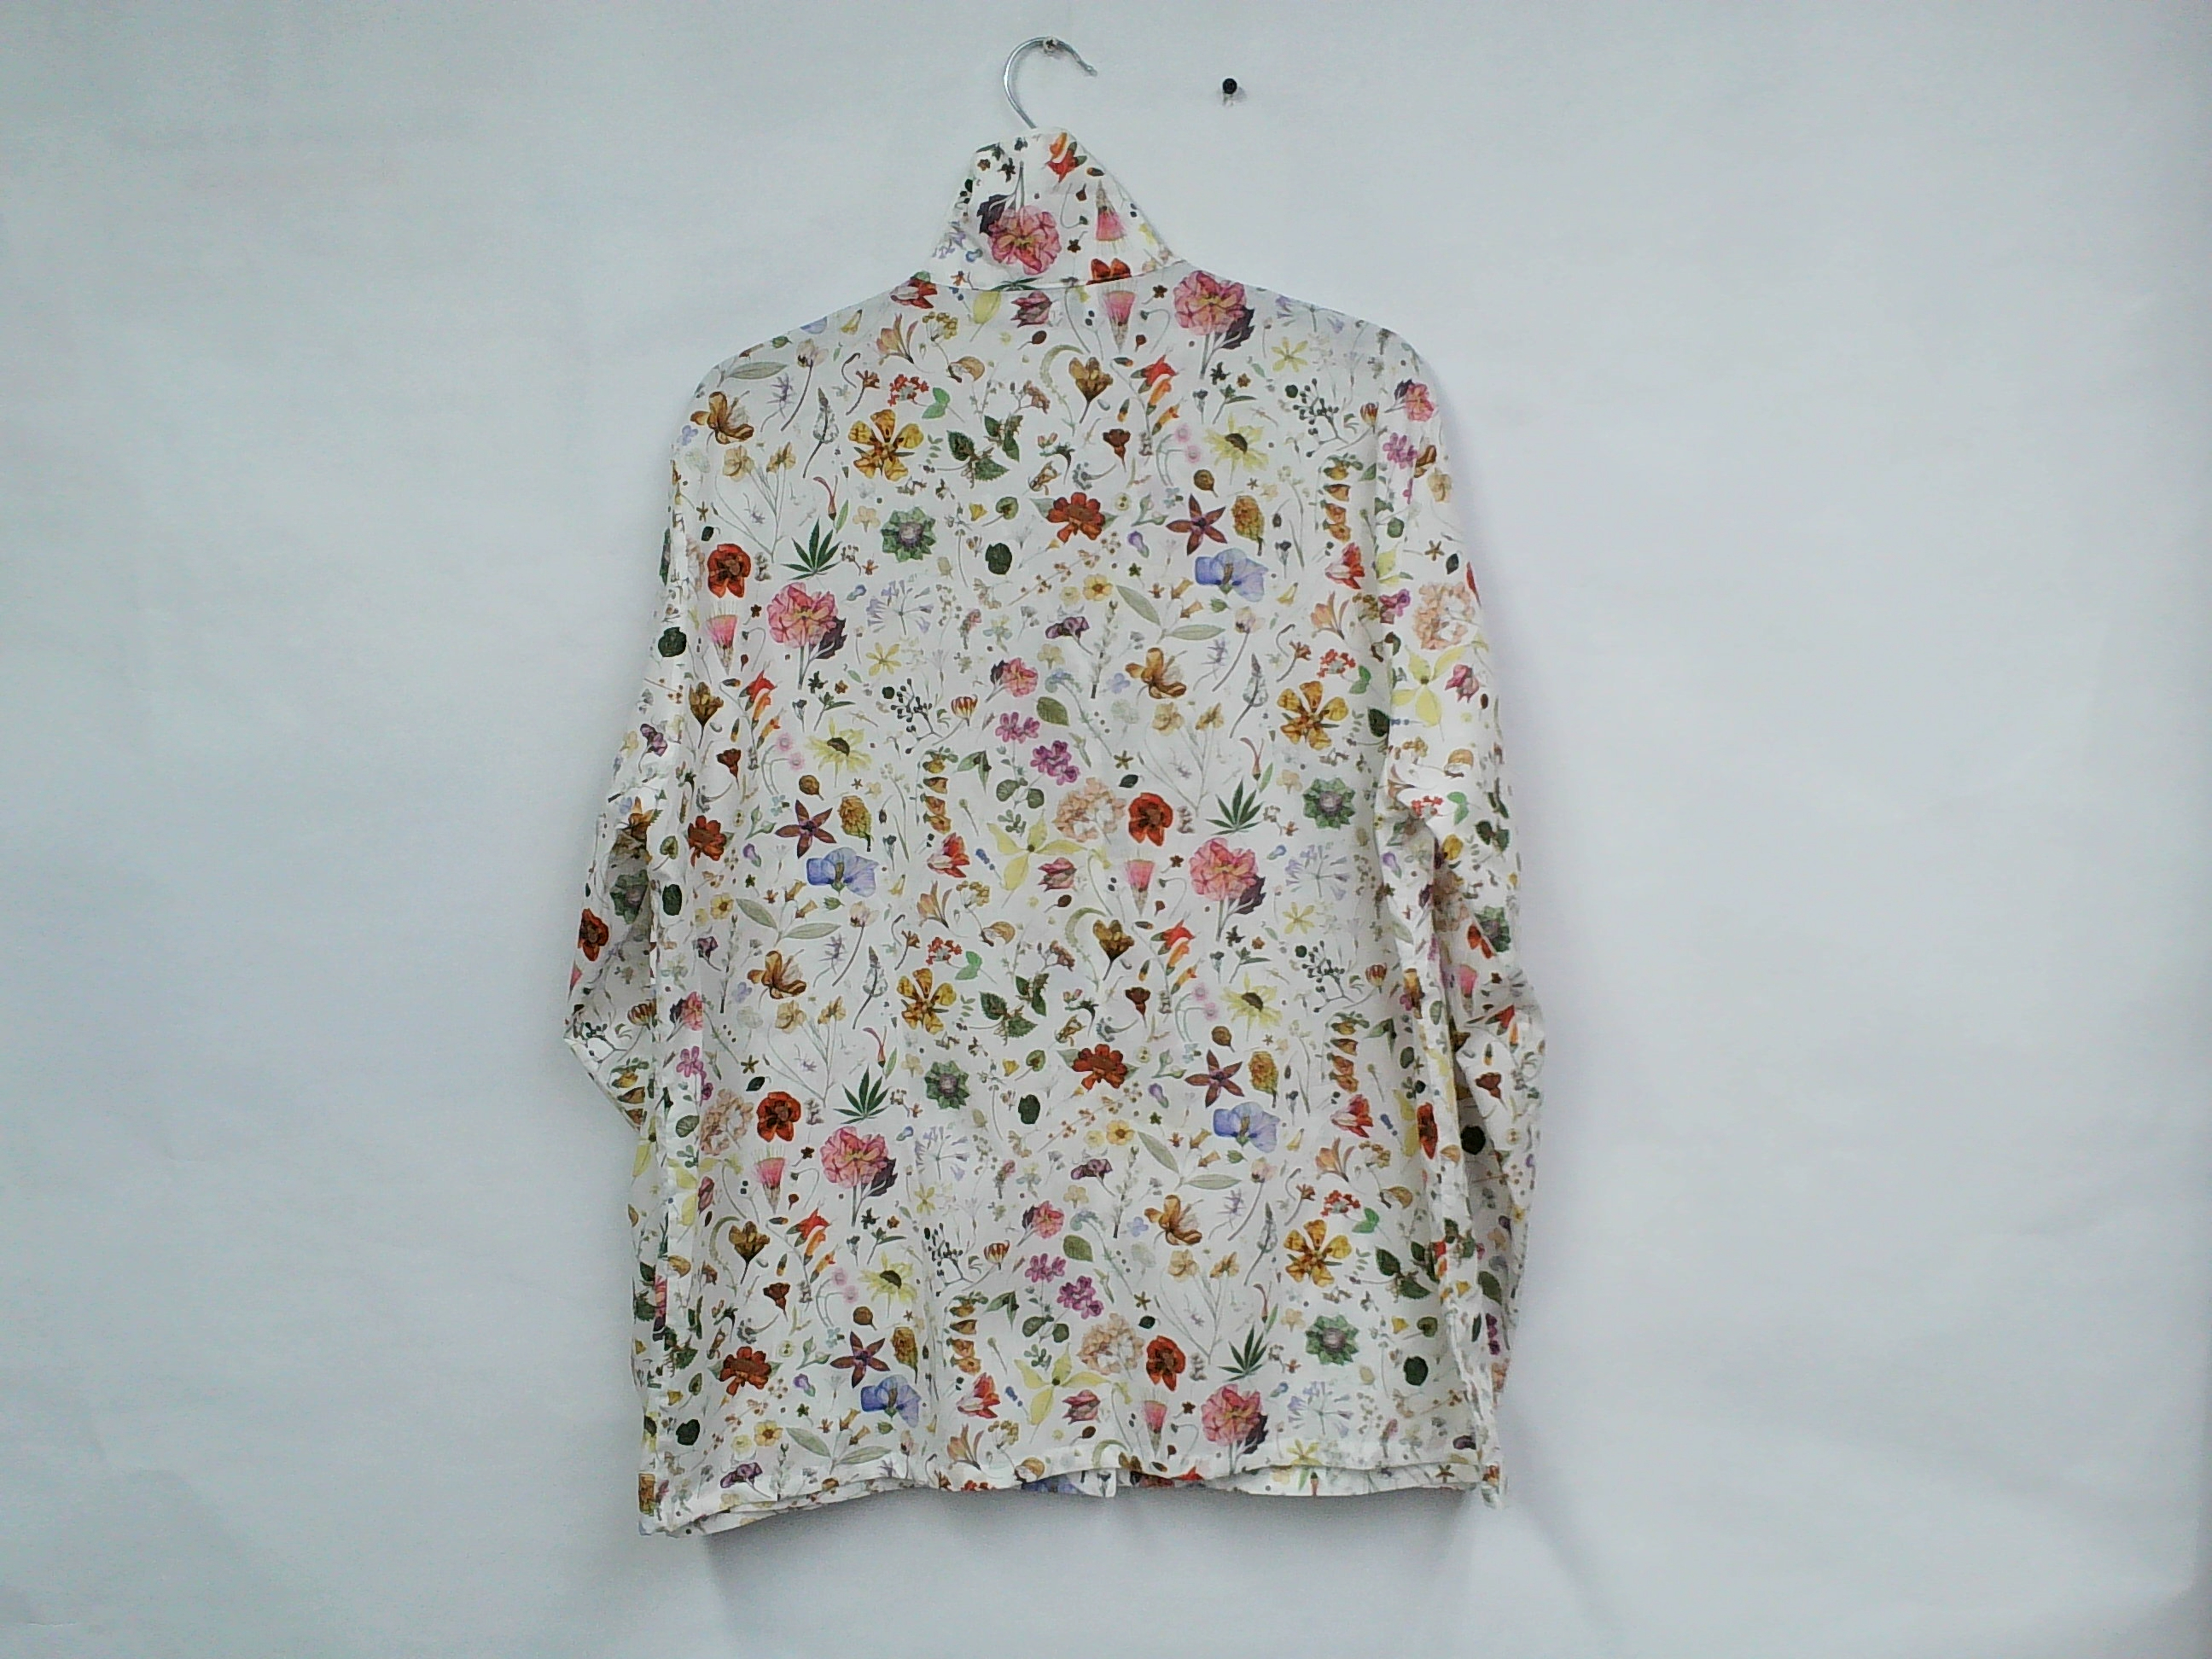seam: (894, 234, 1209, 321)
